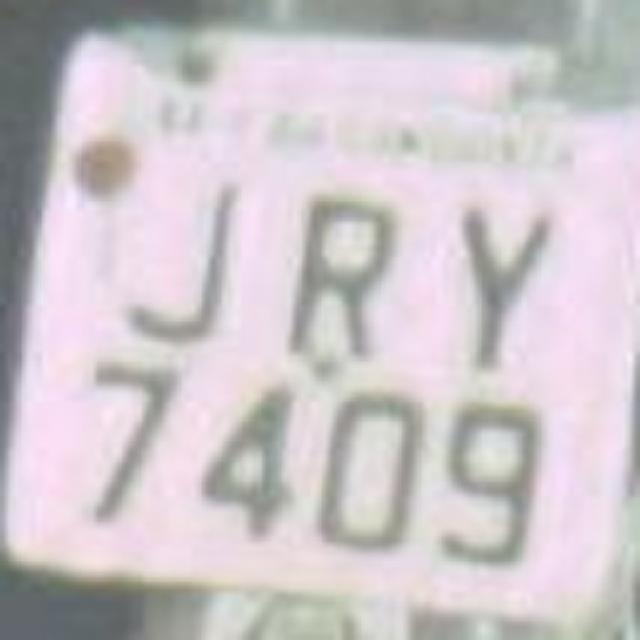0: (300, 368, 452, 568)
4: (185, 368, 320, 572)
7: (60, 345, 192, 560)
9: (428, 369, 564, 576)
J: (89, 156, 256, 372)
R: (255, 168, 420, 372)
Y: (415, 172, 560, 376)
